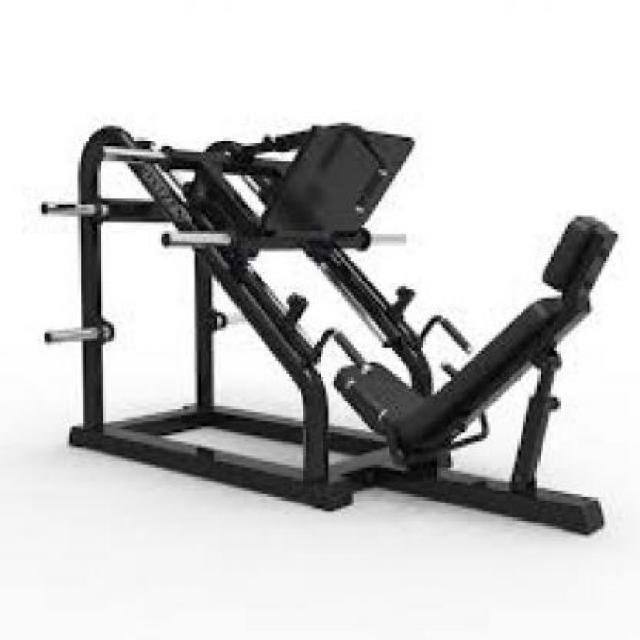leg press: (31, 70, 640, 564)
